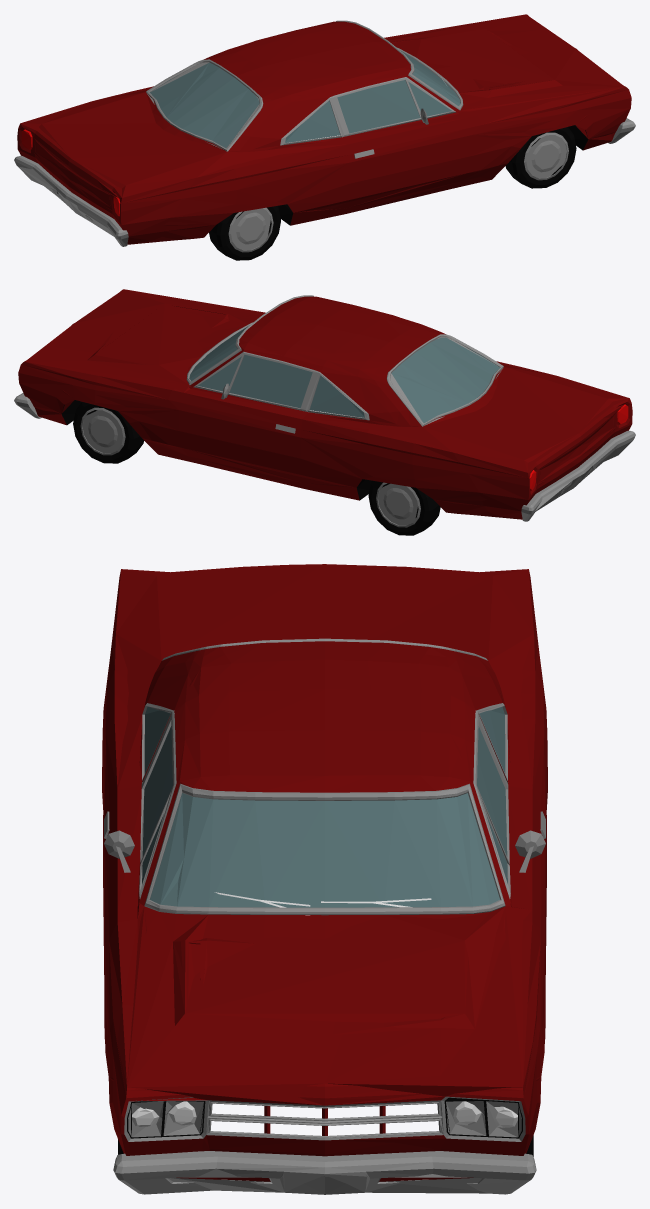
The model's file is sedan.glb.
3 views of the same model, one above another, from view 1: azimuth 30°, elevation 25°; view 2: azimuth 150°, elevation 25°; view 3: azimuth 270°, elevation 25° (orthographic). The views are drawn at different scales.
Visible parts, largest first — view 1: hi, lo; view 2: hi, lo; view 3: hi, lo.
Part boxes in pixels (x1=…): hi: x1=14, y1=14, x2=635, y2=260; lo: x1=18, y1=14, x2=624, y2=250; hi: x1=14, y1=289, x2=635, y2=535; lo: x1=25, y1=289, x2=631, y2=525; hi: x1=102, y1=564, x2=547, y2=1194; lo: x1=105, y1=564, x2=544, y2=1193.
Bounding box in the file's own units: 4.7 × 1.23 × 1.75.
